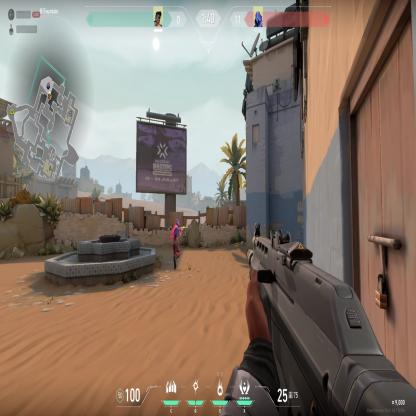enemy: (169, 217, 185, 270)
